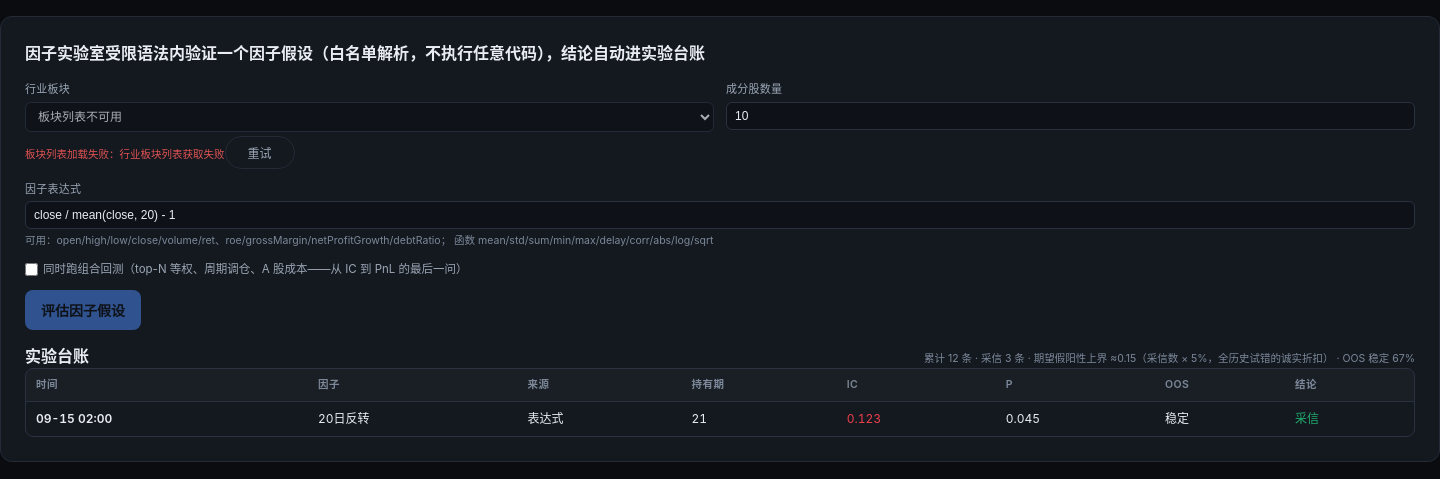
FactorLabPanel —— 首次加载与可提交性 › 板块接口失败时说明原因并可就地重试（不再永远停在「加载板块中…」）
The image size is (1440, 479).
Expected: the text "20日反转" is shown, 308,401 -> 518,436
Expected: the text "板块列表加载失败：行业板块列表获取失败 重试" is shown, 25,136 -> 294,168
Click the button "重试" at (260, 152), box 224,136 -> 294,168
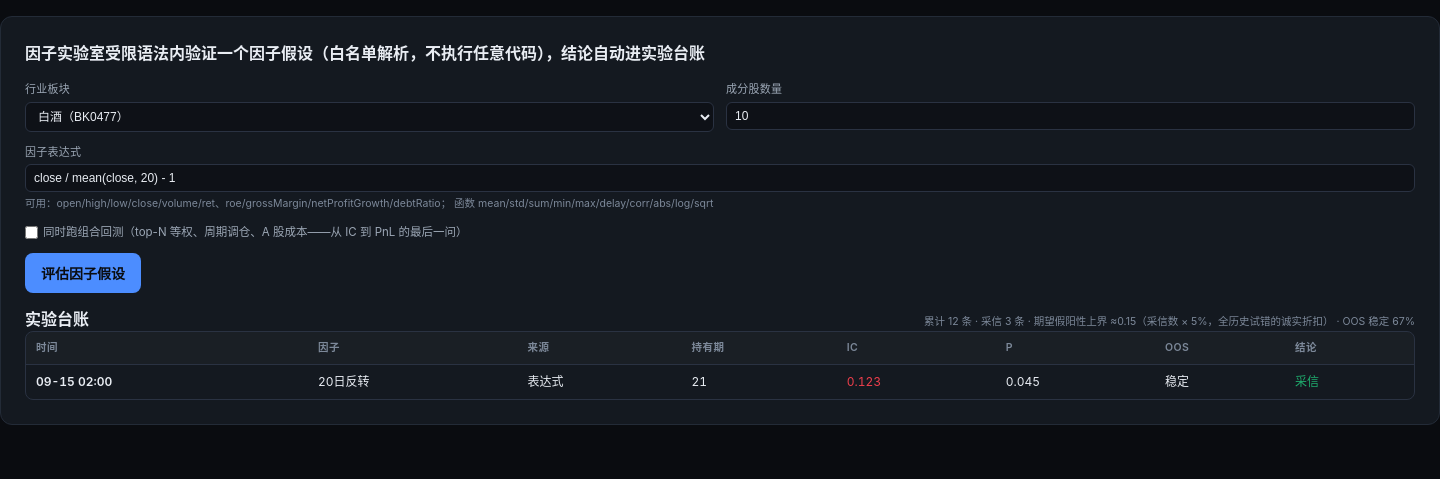
Result: the dropdown is enabled at 25,102 -> 714,132
Result: the text "板块列表加载失败" is gone
